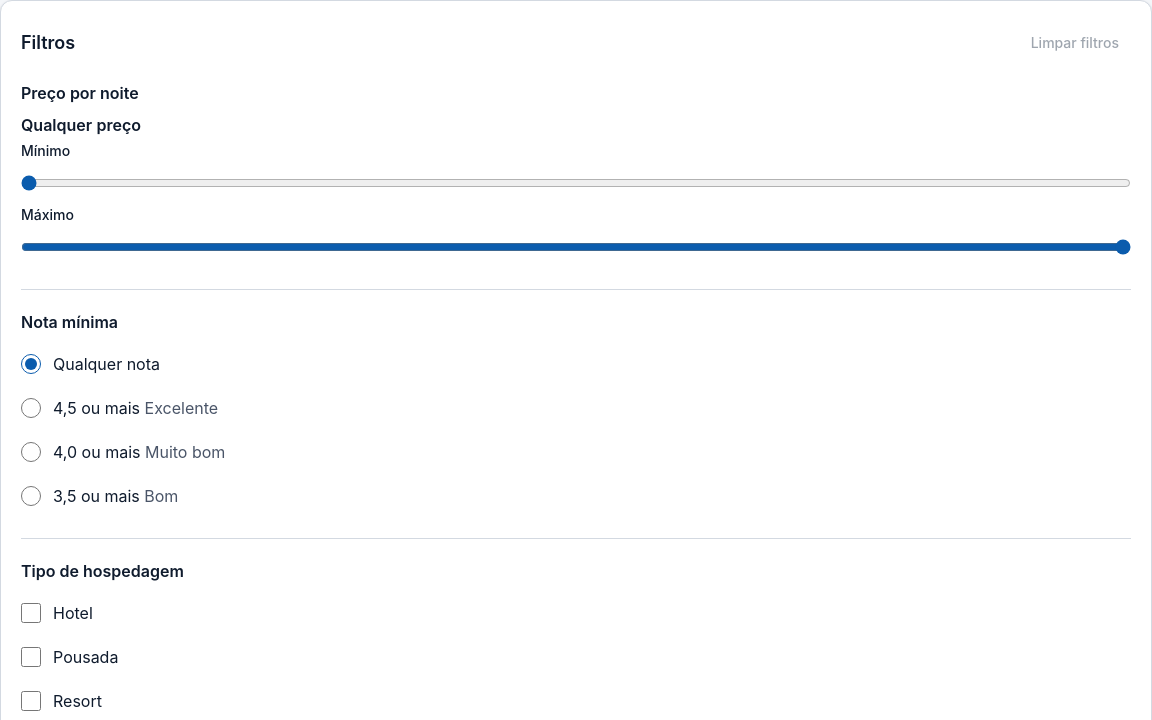
it: FiltersPanel: sliders de preço (critério 12) › mover o máximo atualiza o texto na hora e grava a URL uma vez, 400 ms depois
The width and height of the screenshot is (1152, 720).
Set the slider labelled "Máximo" to "1000". click: point(394, 247)
box: [21, 225, 1131, 269]
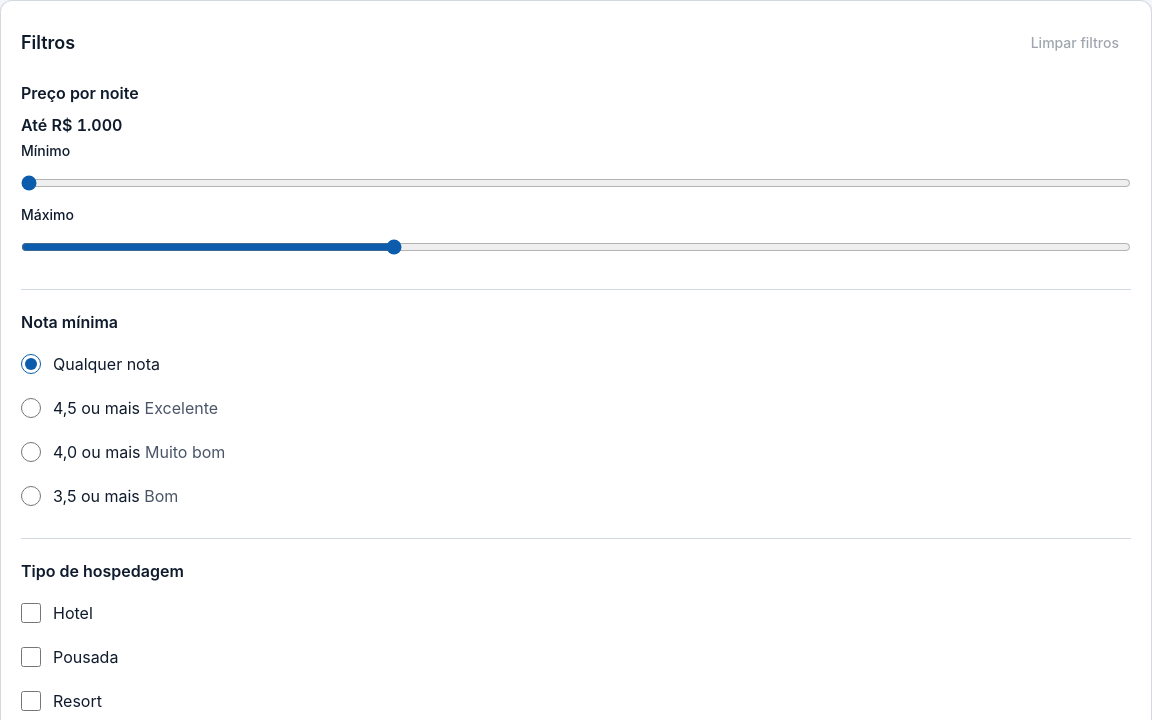
Set the slider labelled "Máximo" to "500". click: point(211, 247)
box: [21, 225, 1131, 269]
Wait 1409 ms
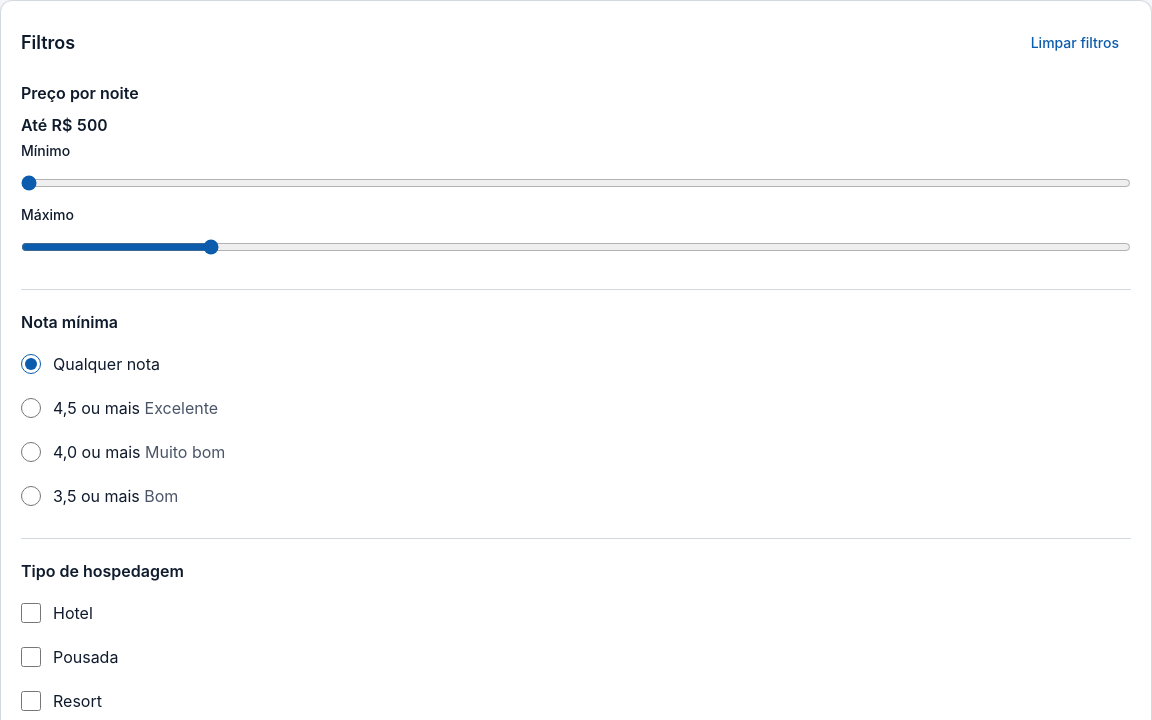
Expected: the text "Até R$ 500" is shown, [21, 115, 108, 135]
